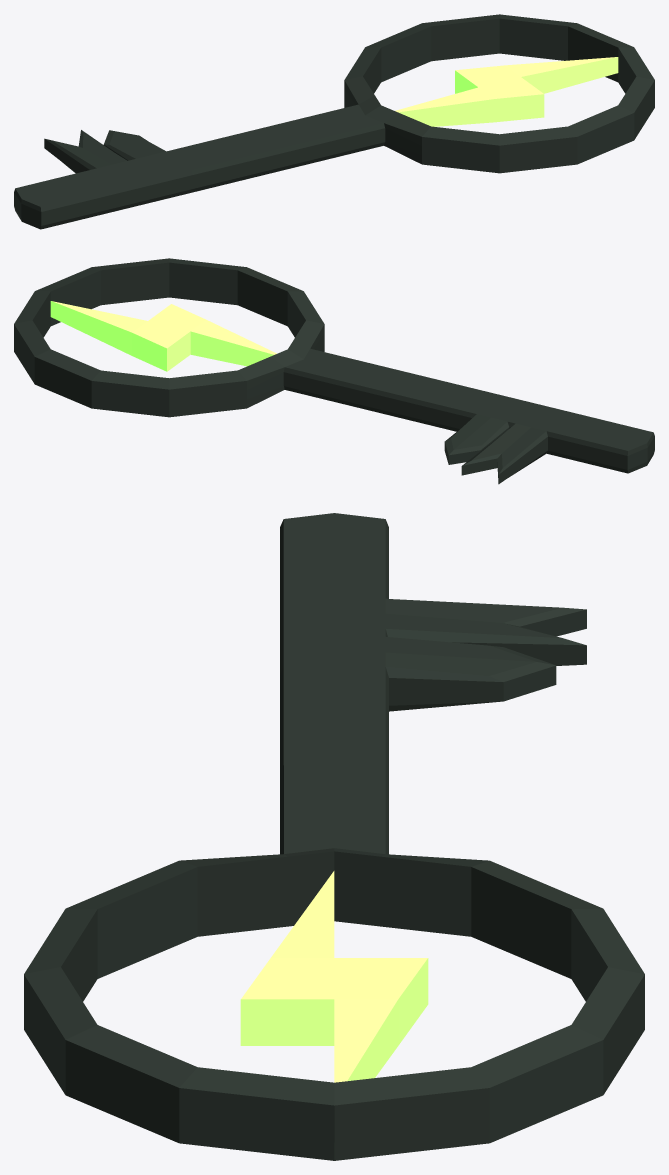
The model's file is ChavePuzzle.fbx.
The picture shows the model from 3 angles, top to bottom: view 1: azimuth 30°, elevation 25°; view 2: azimuth 150°, elevation 25°; view 3: azimuth 270°, elevation 25°; orthographic projection. The views are drawn at different scales.
Visible parts, largest first — view 1: ChavePuzzle; view 2: ChavePuzzle; view 3: ChavePuzzle.
Part boxes in pixels (box(x1,y1,x2,y2)): ChavePuzzle: box(14, 14, 654, 229); ChavePuzzle: box(14, 258, 654, 484); ChavePuzzle: box(24, 513, 644, 1160).
Size of the model in its own units: 124 by 6.77 by 54.51.
